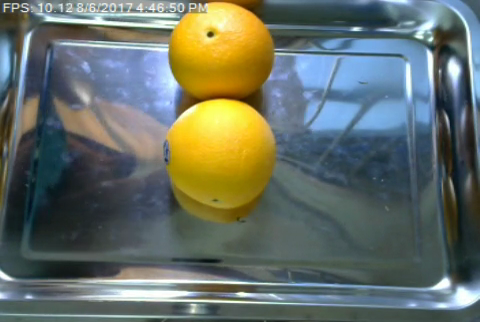Orange: (163, 97, 276, 207), (167, 1, 275, 103)
